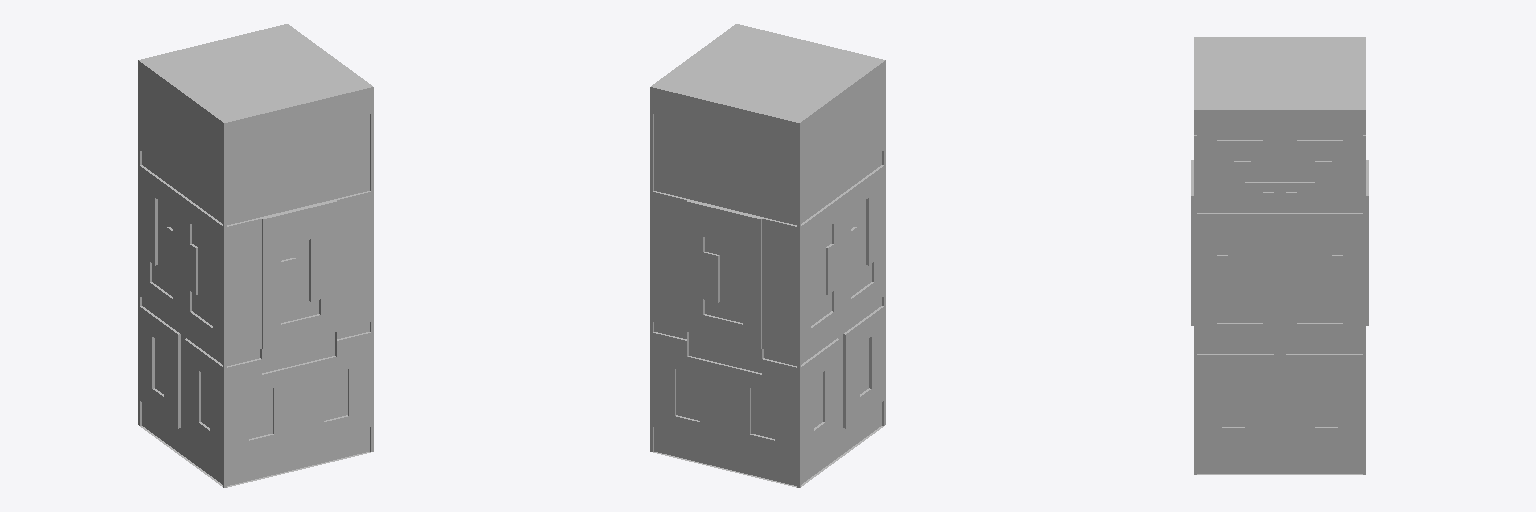
Rendered from MeepleOneVisionLib.obj.
3 renders of one model, left to right at view 1: azimuth 30°, elevation 25°; view 2: azimuth 150°, elevation 25°; view 3: azimuth 270°, elevation 25°, orthographic.
Parts seen in each view (by area): view 1: Cube; view 2: Cube; view 3: Cube.
Part boxes in pixels (left/top/right/bottom): Cube: left=138, top=24, right=373, bottom=487; Cube: left=650, top=24, right=885, bottom=487; Cube: left=1191, top=37, right=1368, bottom=474.
Size of the model in its own units: 3 by 7 by 3.1.